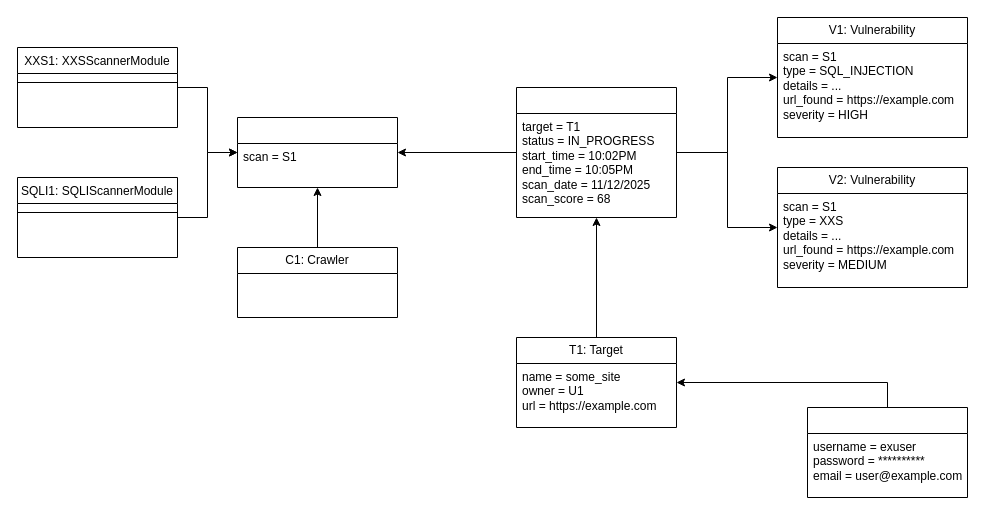
The diagram is 985 pixels wide and 518 high, and some of its shapes have lost their labels. Each missing label, with the box of its shape:
S1: Scan: (516, 86, 676, 218)
SM1: ScanManager: (236, 116, 398, 188)
U1: User: (806, 406, 968, 498)
